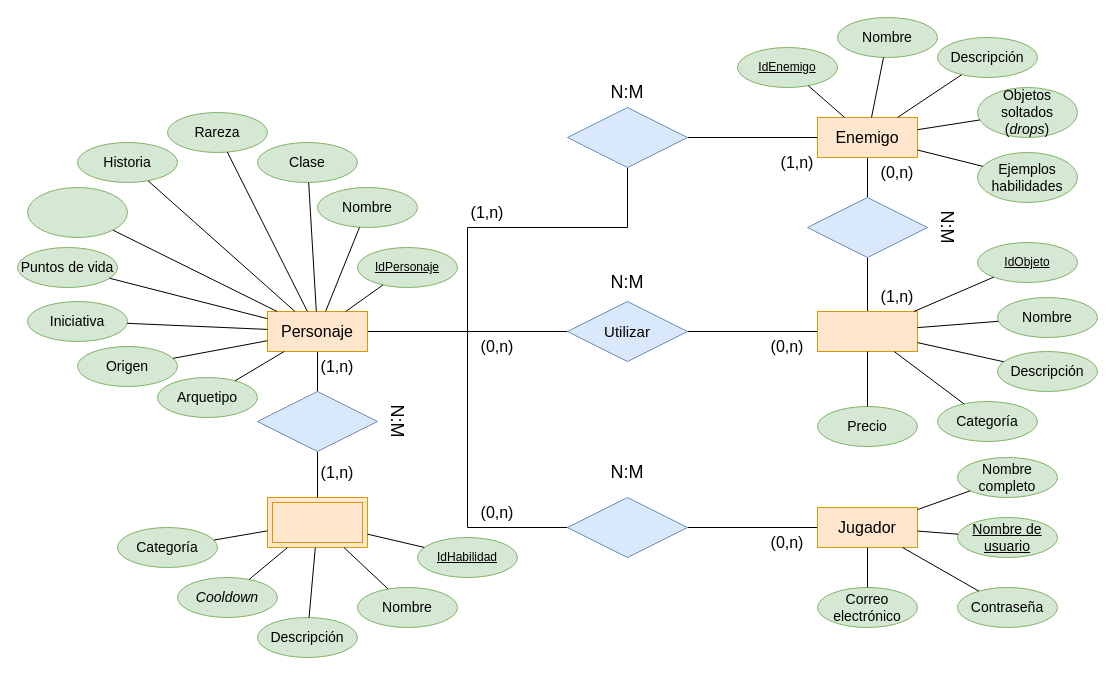
Some shapes in this 1115 by 675 pixel diagram are drawn without their labels. The centre of each missing label's shape, as x and y in pixels:
Adquirir: the point at 627,527
Enfrentar: the point at 627,137
Habilidad: the point at 317,522
Objeto: the point at 867,331
Poseer: the point at 317,421
Soltar: the point at 867,227
Tirada de ataque básico: the point at 77,212
